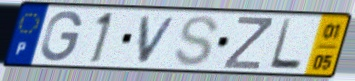1: (89, 11, 116, 65)
G: (39, 9, 85, 64)
L: (267, 17, 303, 72)
S: (172, 14, 221, 69)
V: (136, 15, 181, 65)
Z: (221, 14, 275, 71)
